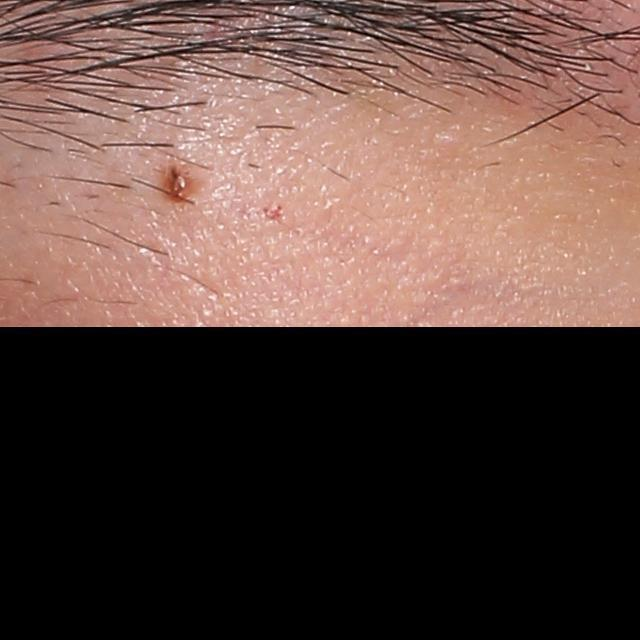nevus: (157, 163, 201, 203)
